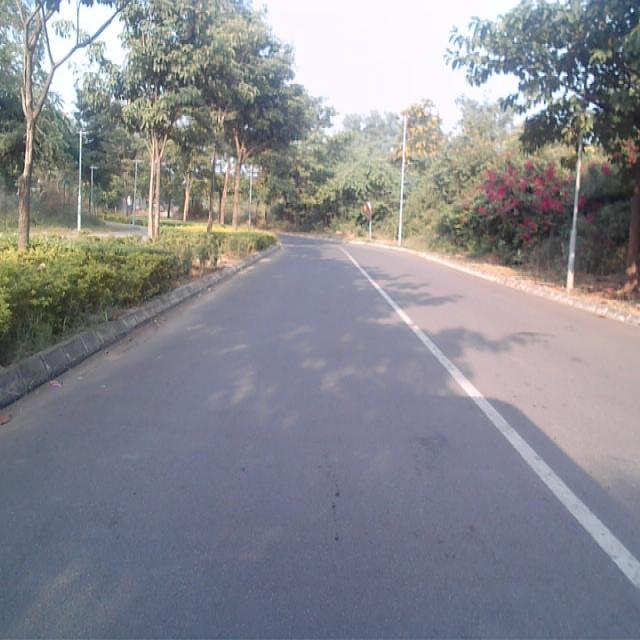lane: (0, 248, 640, 640)
